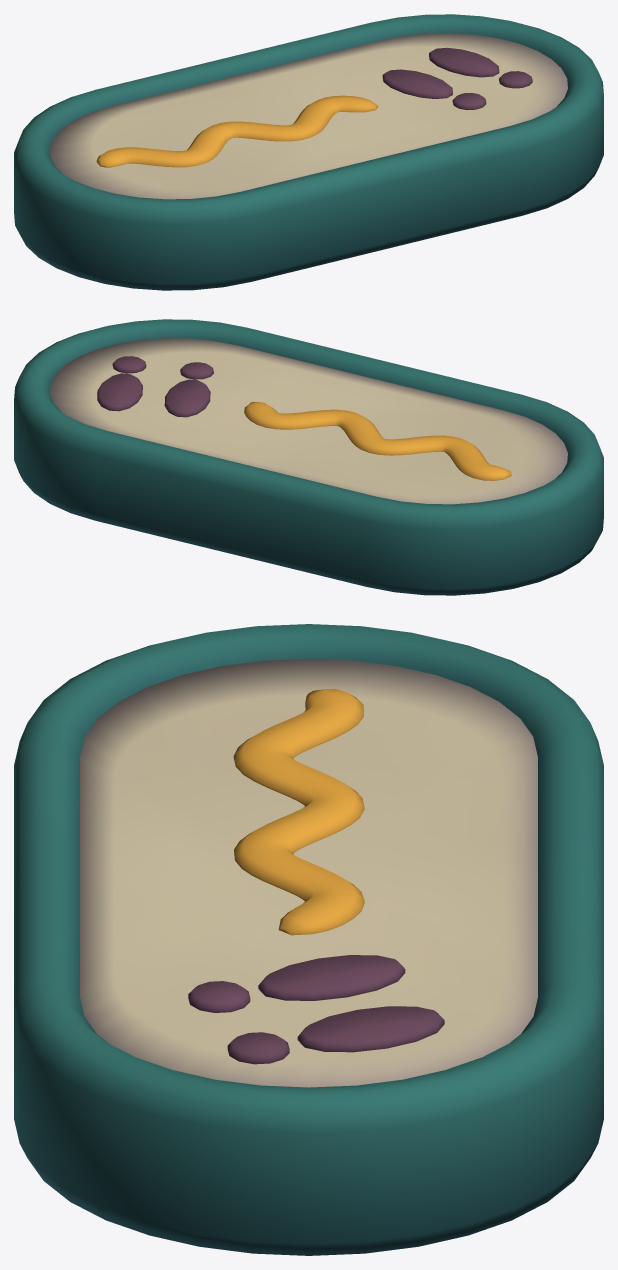
The model's file is stage-marker.glb.
3 views of the same model, one above another, from view 1: azimuth 30°, elevation 25°; view 2: azimuth 150°, elevation 25°; view 3: azimuth 270°, elevation 25° (orthographic). The views are drawn at different scales.
Visible parts, largest first — view 1: stage-marker; view 2: stage-marker; view 3: stage-marker.
Boxes of the visible parts, <box> form: stage-marker: <box>14,14,603,290</box>; stage-marker: <box>14,319,603,595</box>; stage-marker: <box>14,624,603,1255</box>.
Bounding box in the file's own units: 1.78 × 0.262 × 0.9.
